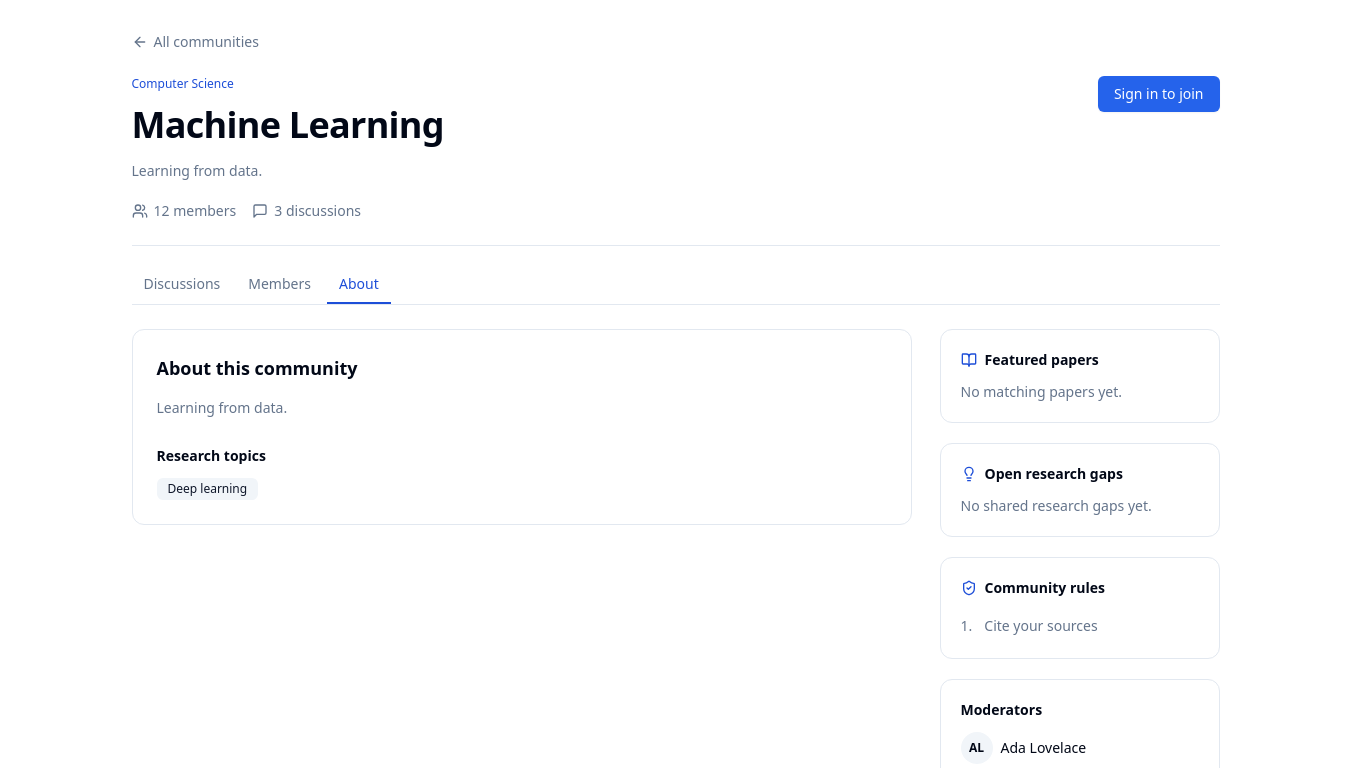
community detail page › asks anonymous viewers to sign in on the Members tab and sends no roster request
Click the button "Members" at point(280, 285), box [236,266,323,304]
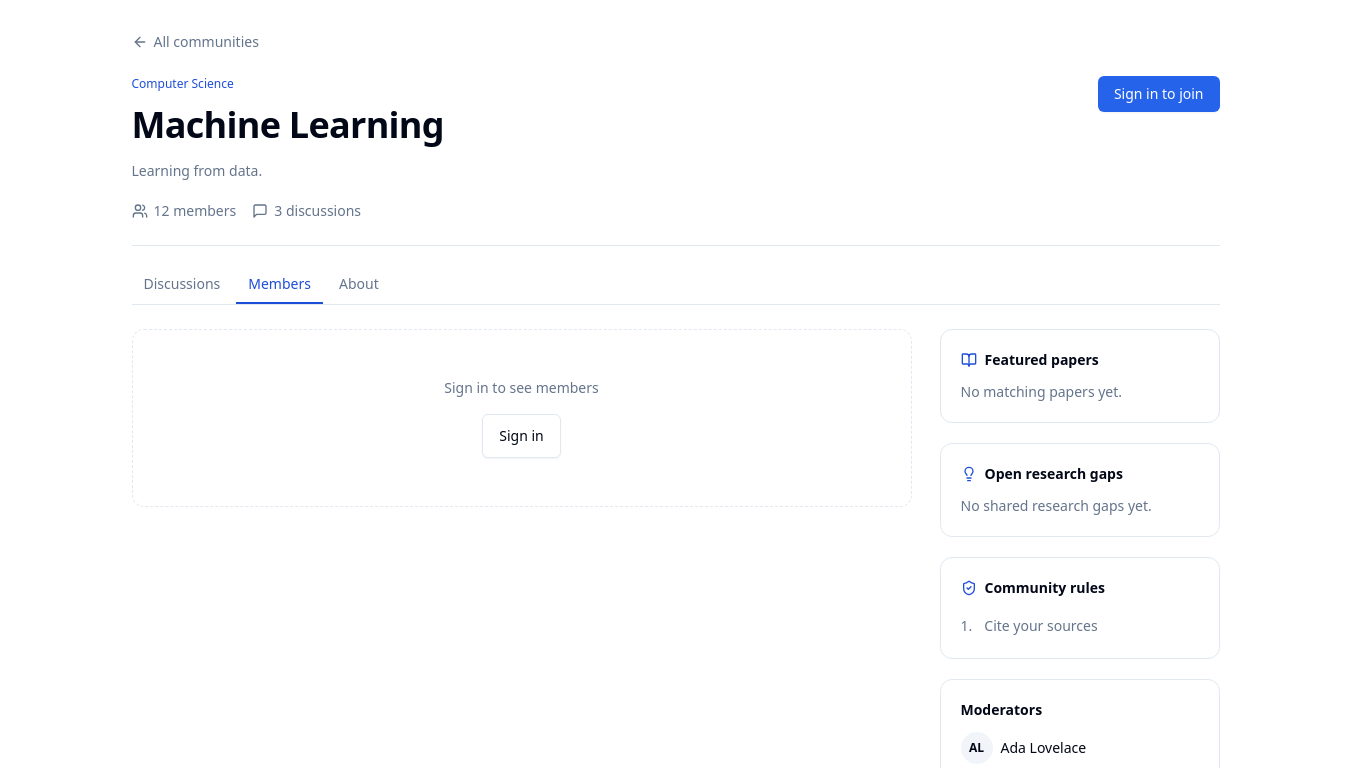
Expected: the link to "/login" is shown, [1098,76,1220,112]
Now the text "Sign in to see members" is shown, box [444,378,599,397]
